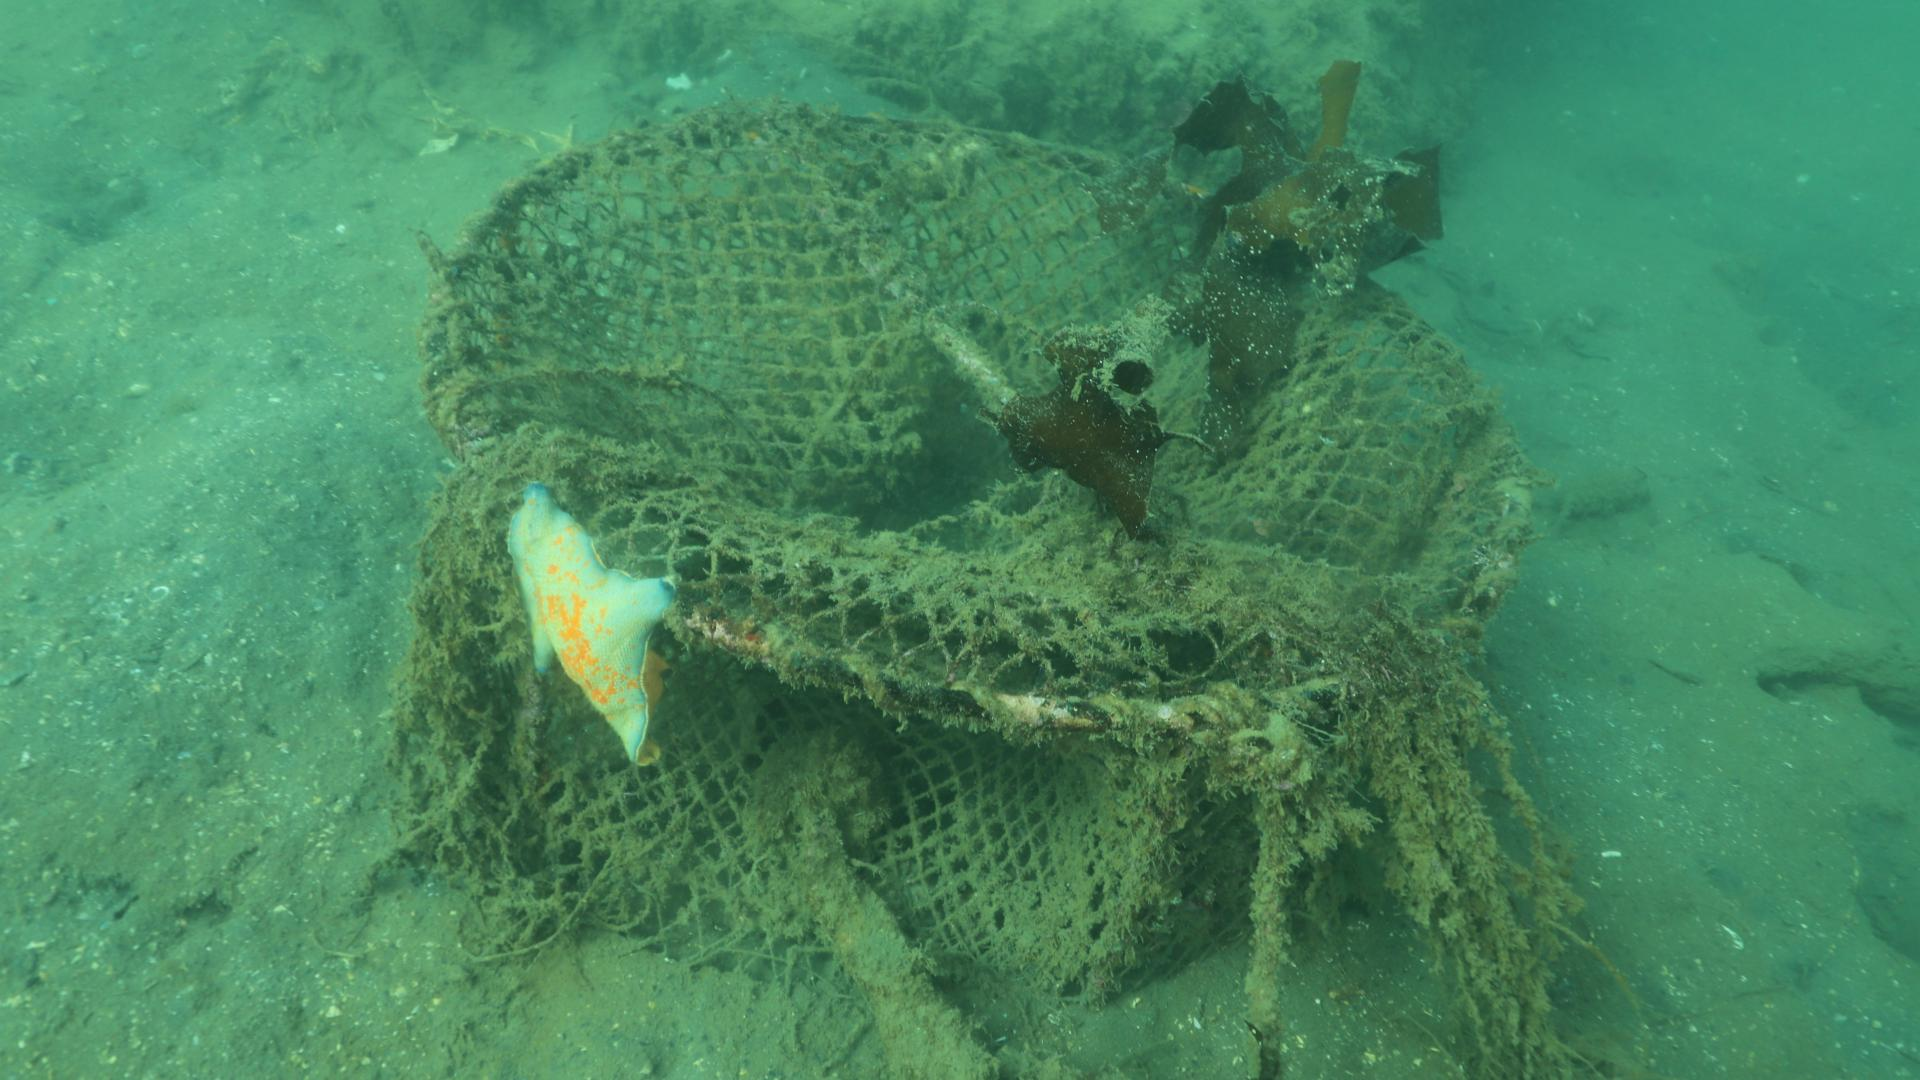circular fish trap: (415, 96, 1535, 1010)
